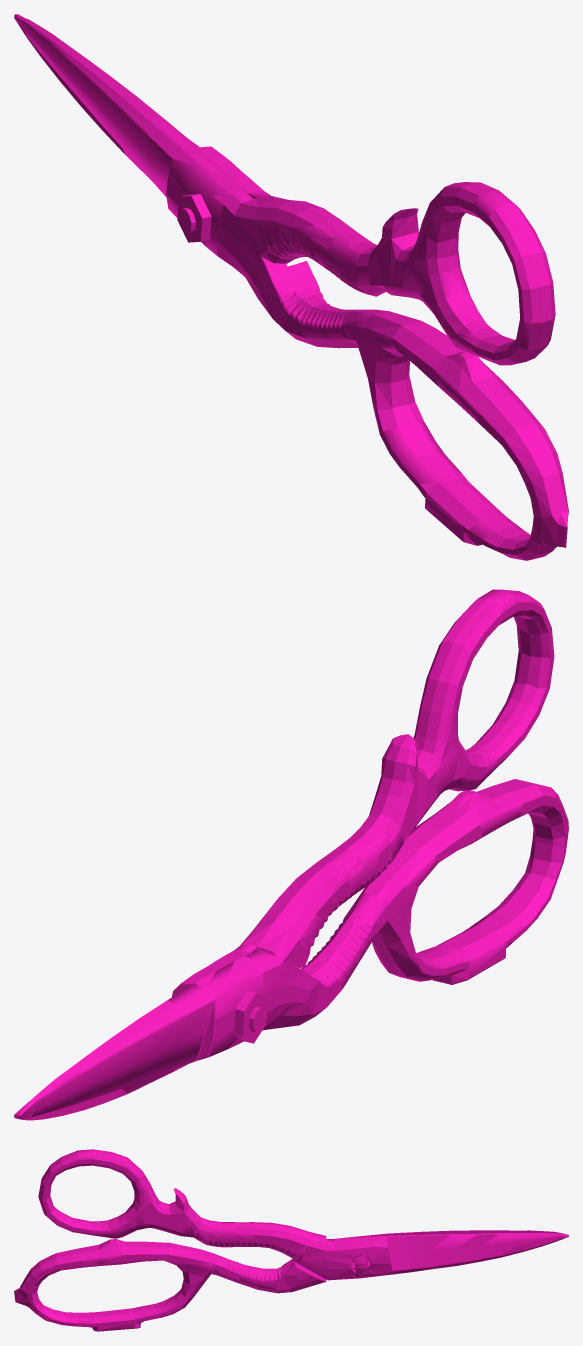
Rendered from scissors2_5.dae.
3 views of the same model, one above another, from view 1: azimuth 30°, elevation 25°; view 2: azimuth 150°, elevation 25°; view 3: azimuth 270°, elevation 25° (orthographic). The views are drawn at different scales.
Parts seen in each view (by area): view 1: M004947_019; view 2: M004947_019; view 3: M004947_019.
Boxes of the visible parts, x1,y1,x2,y2 form: M004947_019: [14, 14, 568, 560]; M004947_019: [14, 589, 568, 1120]; M004947_019: [14, 1149, 568, 1331].
Bounding box in the file's own units: 0.0176 × 0.253 × 0.0896.
